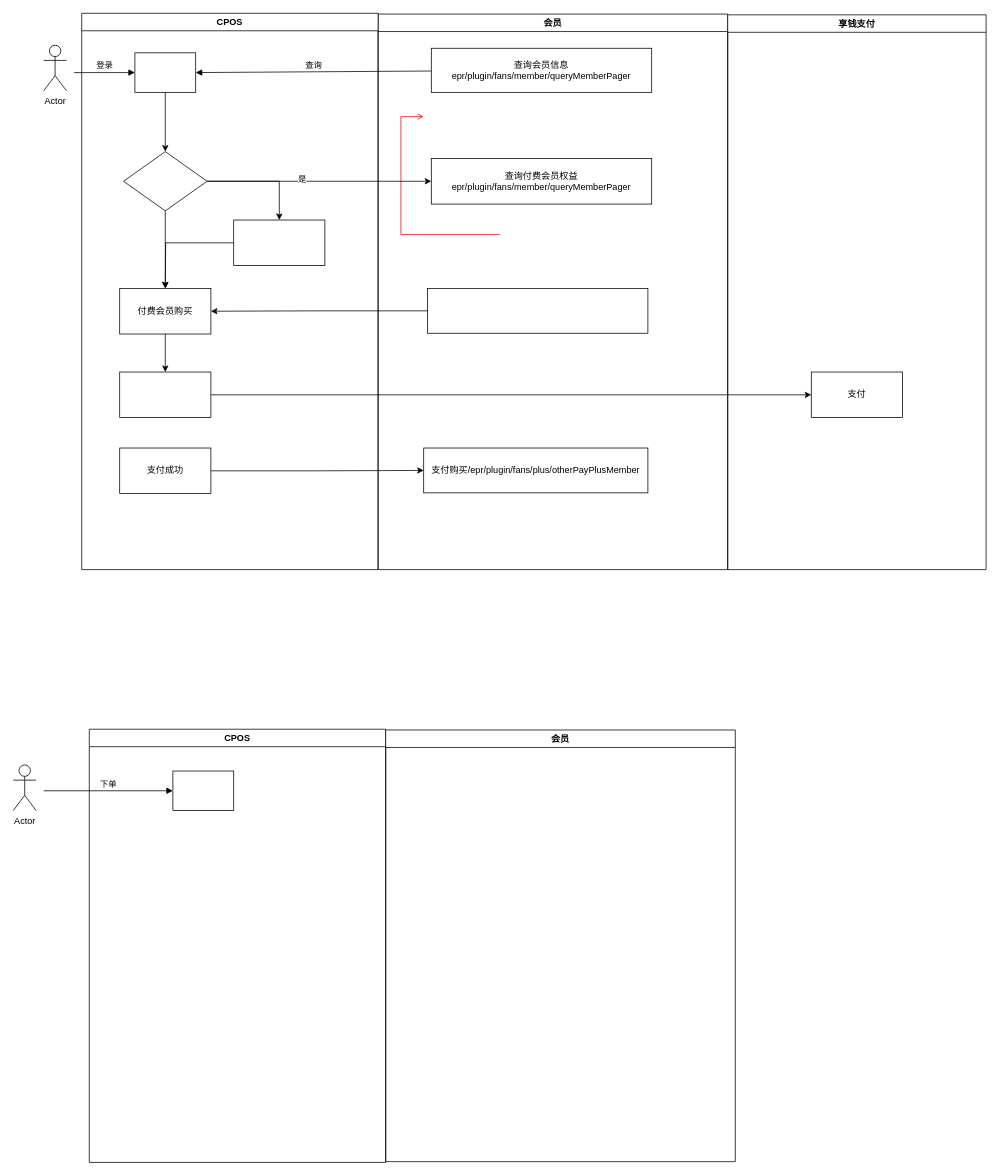
Some shapes in this 999 by 1176 pixel diagram are drawn without their labels. The shapes that lost their labels are listed below. From the top down, each one's centre as x and y in pixels, then its label:
(165,72): 用户中心
(165,181): 是否是付费会员
(279,242): 续费
(537,310): 查询付费会员套餐类型/epr/plugin/fans/plus/queryPlusTypeList
(165,394): 选择付费会员套餐并进行支付购买
(203,790): 商品中心
